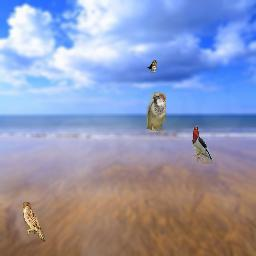Sparrow: (23, 202, 45, 242), (146, 92, 166, 132), (147, 60, 157, 73)
Woodpecker: (191, 124, 213, 164)
